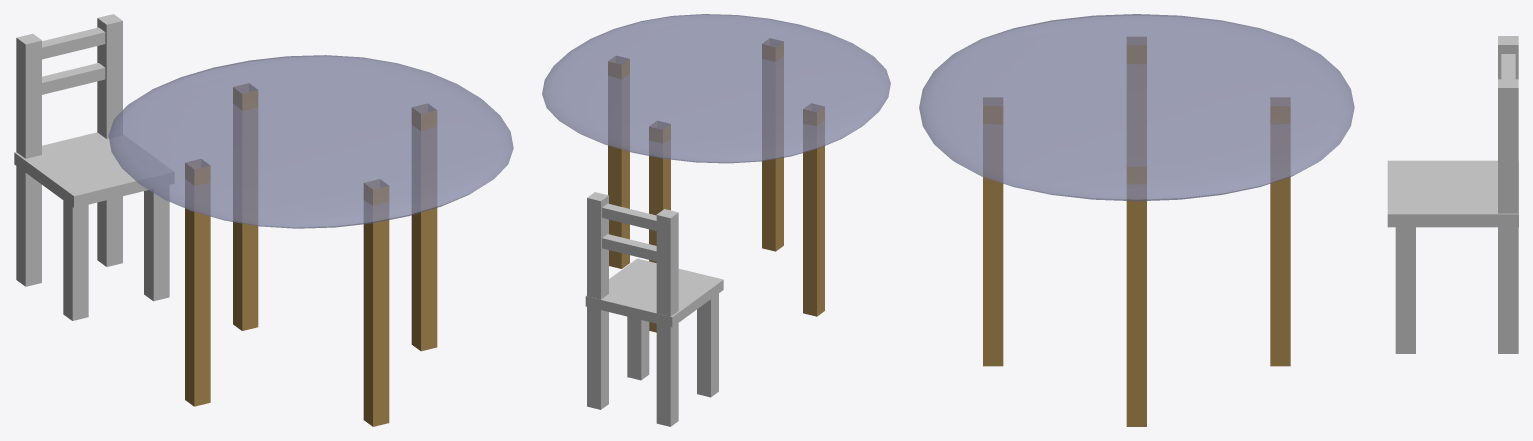
File: Table_and_Chair.fbx
3 views of the same model, side by side, from view 1: azimuth 30°, elevation 25°; view 2: azimuth 150°, elevation 25°; view 3: azimuth 270°, elevation 25° (orthographic). The views are drawn at different scales.
Parts seen in each view (by area): view 1: Cube_14, Cube_13; view 2: Cube_14, Cube_13; view 3: Cube_14, Cube_13.
Boxes of the visible parts, left/top/right/bottom form: Cube_14: left=108, top=55, right=513, bottom=426; Cube_13: left=14, top=14, right=174, bottom=320; Cube_14: left=542, top=14, right=890, bottom=332; Cube_13: left=585, top=192, right=723, bottom=426; Cube_14: left=919, top=14, right=1354, bottom=426; Cube_13: left=1387, top=36, right=1518, bottom=353.
Size of the model in its own units: 212 by 148 by 292.
